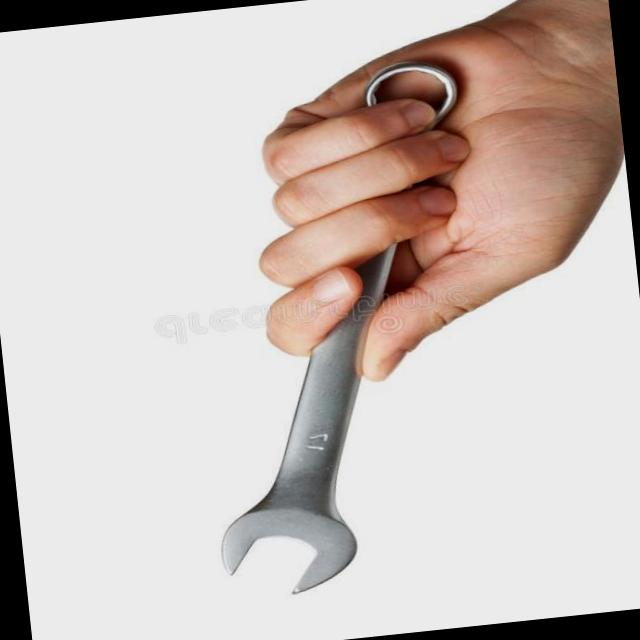wrench: (222, 244, 395, 593), (366, 62, 457, 124)
